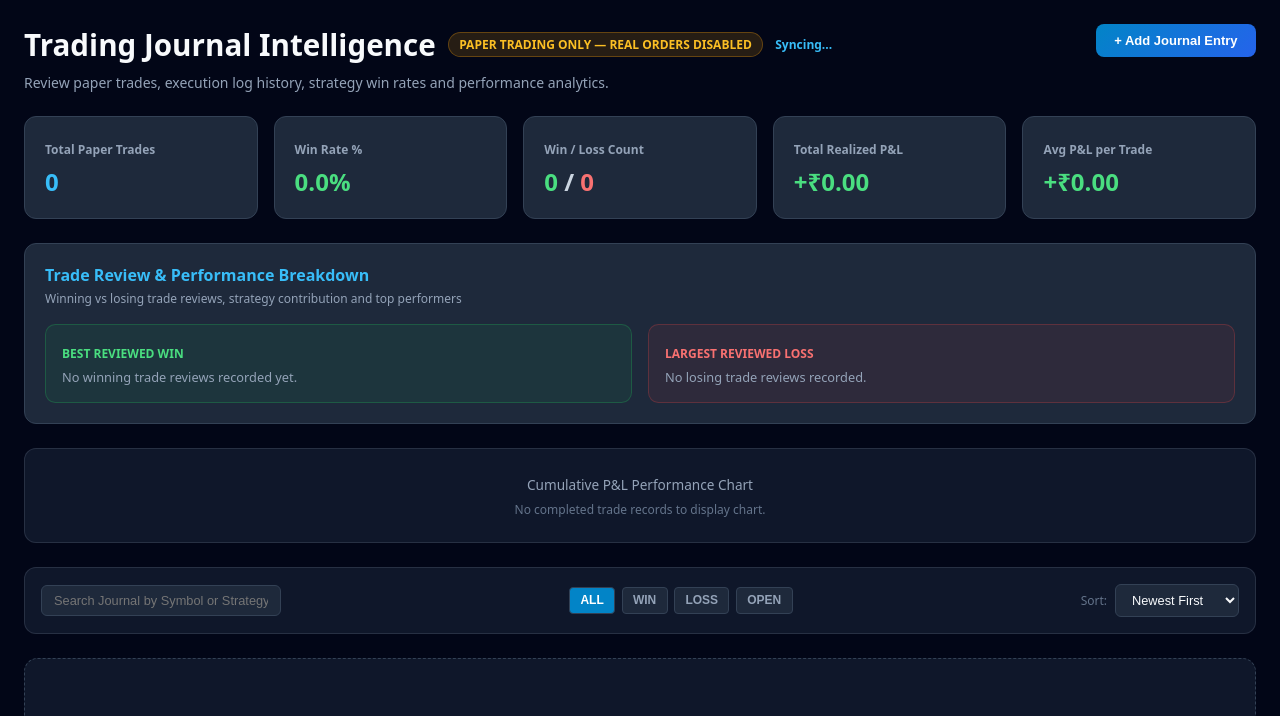
Test: STEP 13.21I.34.133 — Trading Journal Integration › 4. Handles duplicate journal creation error gracefully in modal
Expected: the heading "Trading Journal Intelligence" is shown, [24,24,436,65]
Note: Open add modal
Click the button "+ Add Journal Entry".
click(1176, 40)  # box [1096,24,1256,57]
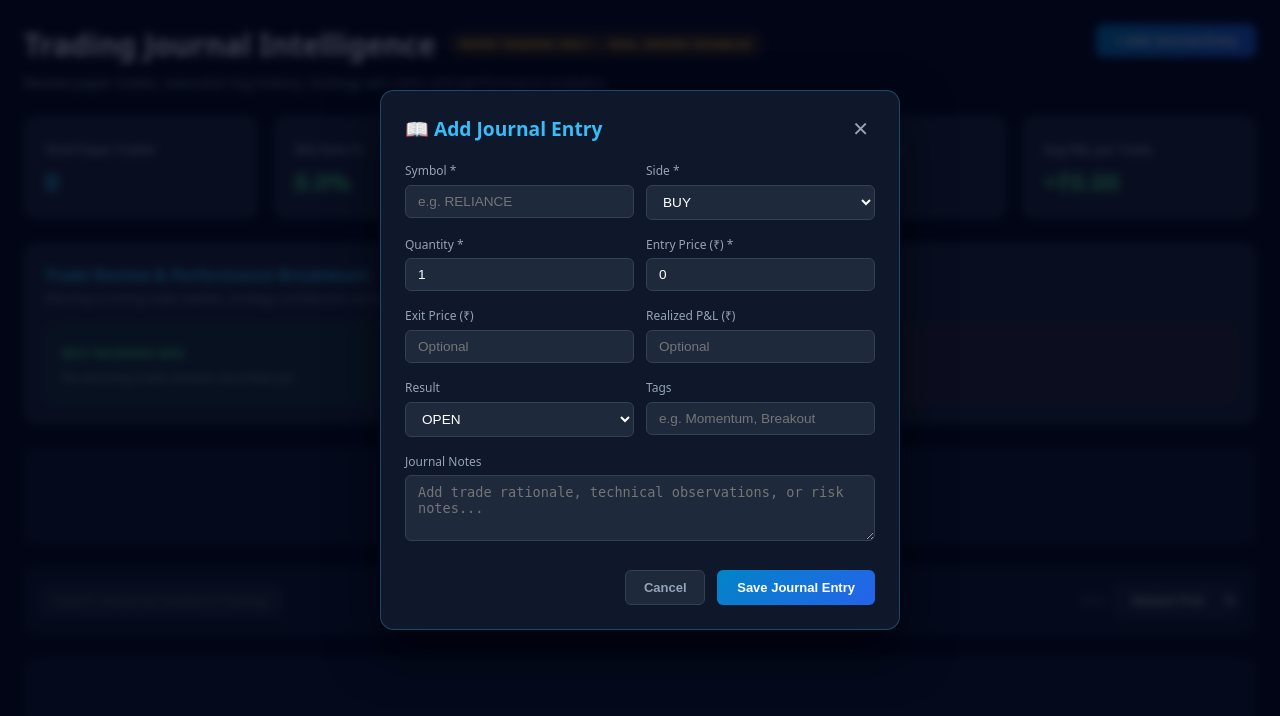
Result: the heading "📖 Add Journal Entry" is shown at [405,115,602,142]
Note: Fill symbol and submit
Type "SBIN" into the field with placeholder "e.g. RELIANCE".
click(520, 201); type("SBIN")  # box [405,185,634,218]
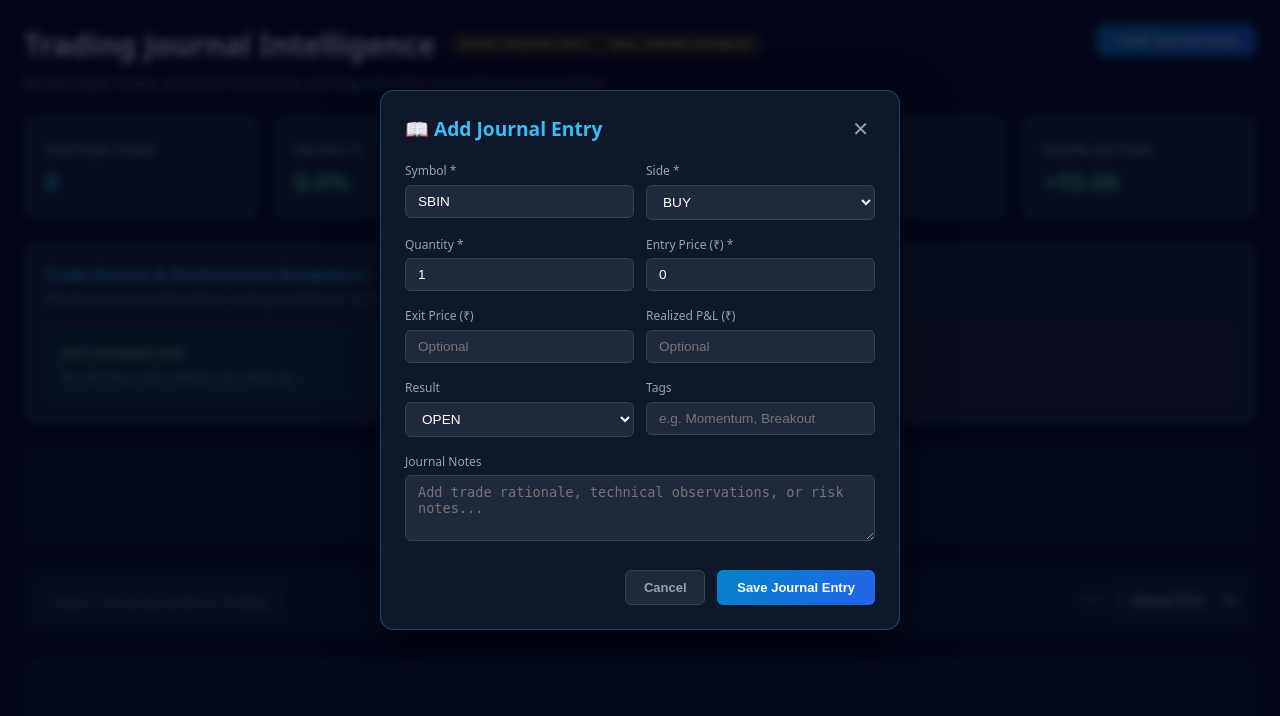
Click the button "Save Journal Entry".
click(796, 588)  # box [717,570,875,605]
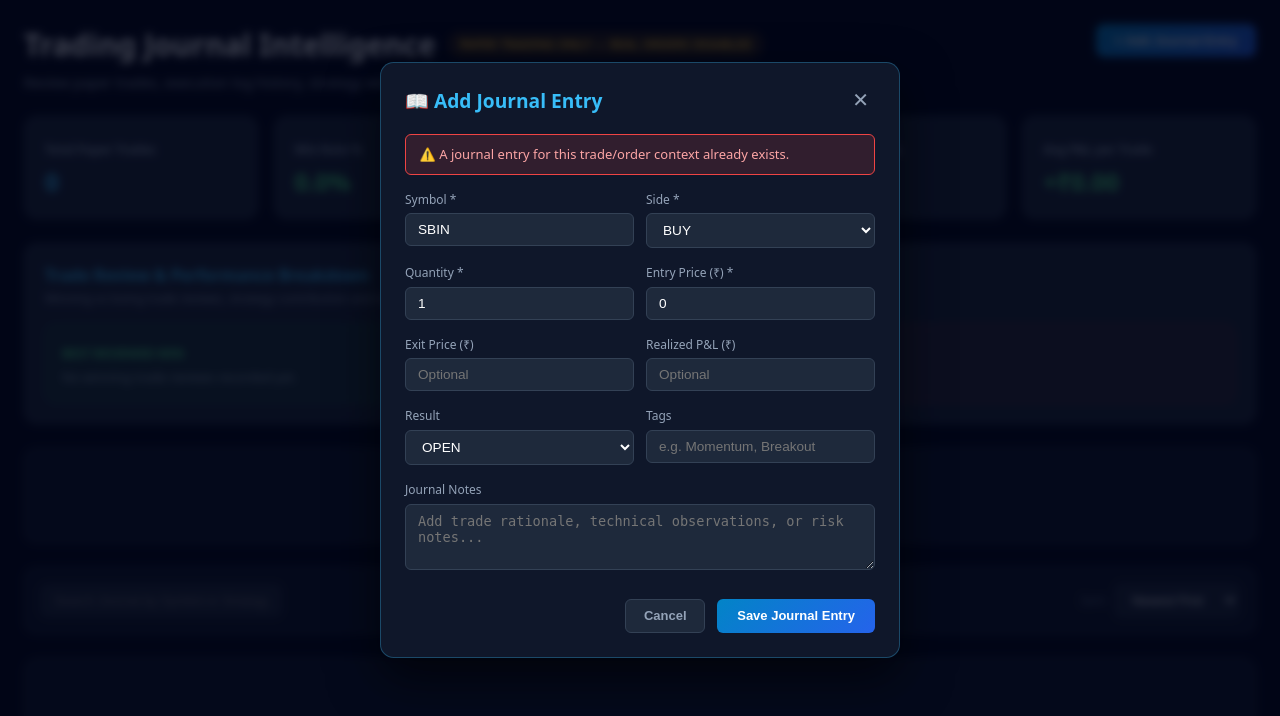
Result: the text "A journal entry for this trade/order context already exists" is shown at [439,145,789,163]
